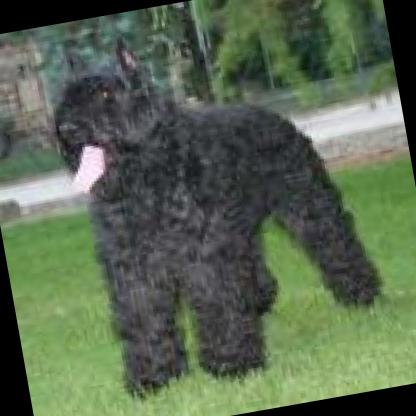Bouvier_des_Flandres: (0, 0, 398, 404)
